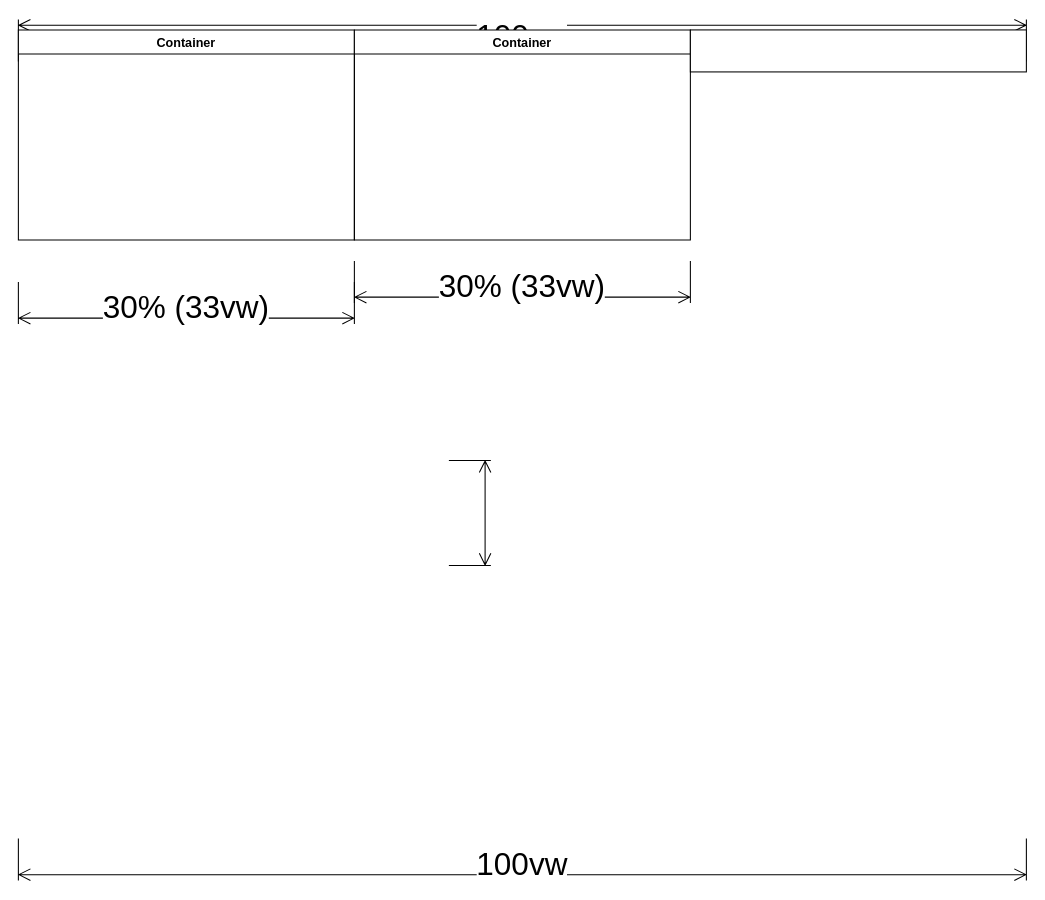
This 1045x900 diagram has some shape labels left out. The centre of each missing label's shape, as x and y in pixels:
"Foo bar" goes at point (857, 50).
"Label" goes at point (469, 512).
